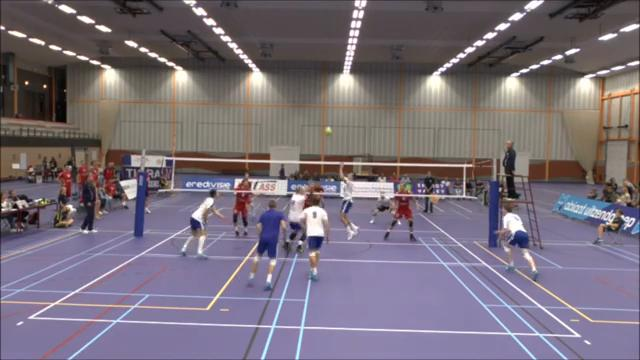Player: (249, 200, 285, 290), (497, 204, 537, 280), (181, 189, 223, 258), (301, 198, 329, 280), (384, 184, 415, 241), (284, 187, 306, 252), (232, 179, 250, 235), (370, 192, 391, 223), (307, 183, 323, 207)
Set: (333, 159, 362, 242)
ball: (324, 125, 333, 137)
